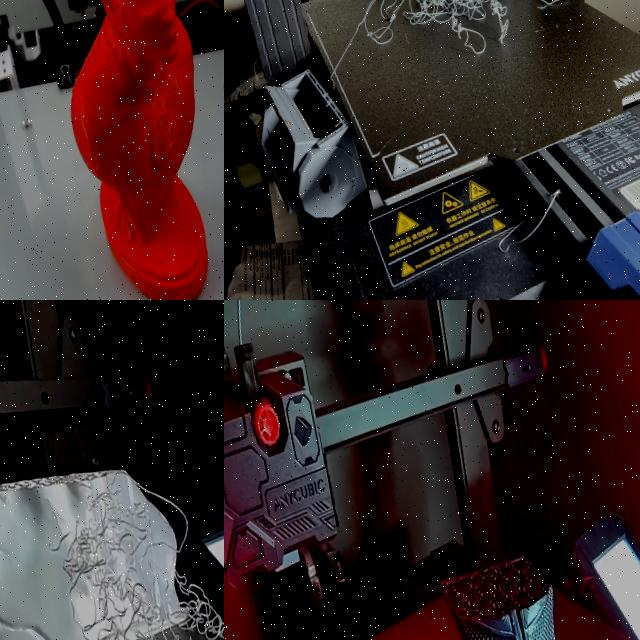spaghetti: (41, 453, 224, 640), (353, 0, 576, 73)
